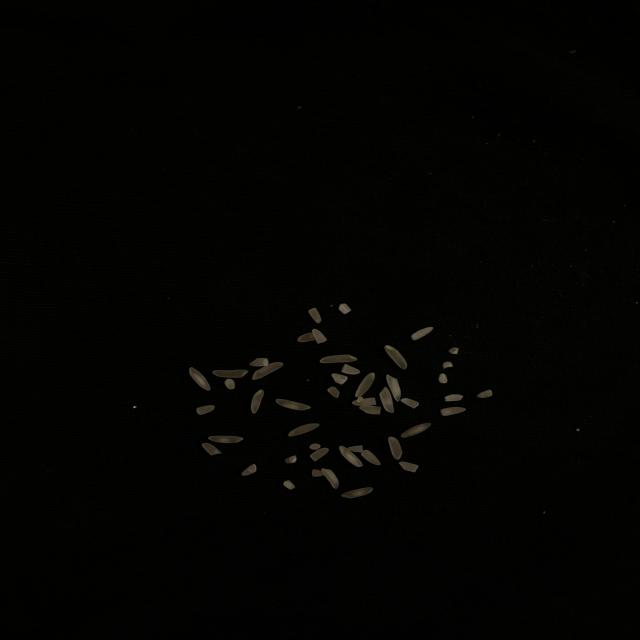Broken: (412, 326, 434, 340), (361, 450, 381, 465), (310, 448, 329, 461), (202, 443, 222, 455), (312, 329, 328, 344), (440, 407, 466, 416), (308, 308, 322, 323), (331, 373, 348, 385), (401, 398, 419, 409), (352, 398, 376, 406), (399, 462, 418, 472), (196, 405, 215, 415), (342, 364, 361, 374), (359, 406, 381, 414), (242, 464, 256, 476), (249, 358, 269, 366), (327, 386, 340, 398), (298, 333, 314, 342), (445, 394, 463, 402), (224, 378, 236, 389), (284, 480, 296, 490), (477, 390, 492, 398), (339, 304, 351, 314), (284, 455, 297, 463), (438, 374, 448, 384), (312, 469, 324, 477), (348, 446, 363, 452), (442, 361, 453, 369), (309, 443, 321, 450), (448, 347, 458, 354), (357, 396, 363, 402)
Full: (252, 362, 284, 380), (385, 344, 407, 370), (189, 367, 211, 391), (339, 446, 363, 467), (355, 373, 375, 397), (401, 422, 431, 438), (276, 398, 311, 411), (386, 374, 401, 402), (379, 387, 394, 413), (288, 424, 320, 436), (321, 468, 339, 489), (342, 487, 373, 499), (388, 436, 403, 459), (251, 389, 264, 414), (320, 355, 357, 363), (213, 370, 249, 378), (208, 436, 244, 444)
